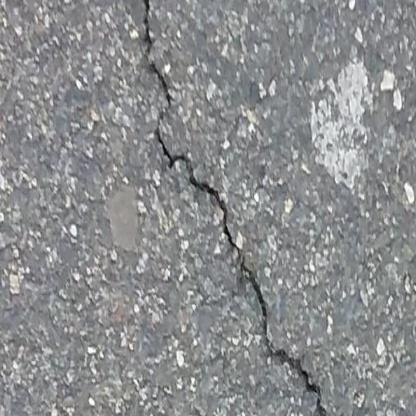Cracks: (135, 0, 337, 416)
